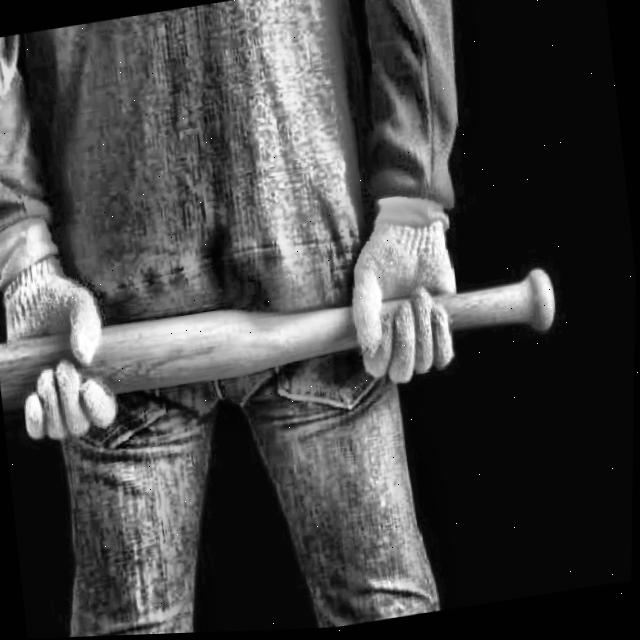tongkat pemukul: (0, 242, 585, 434)
